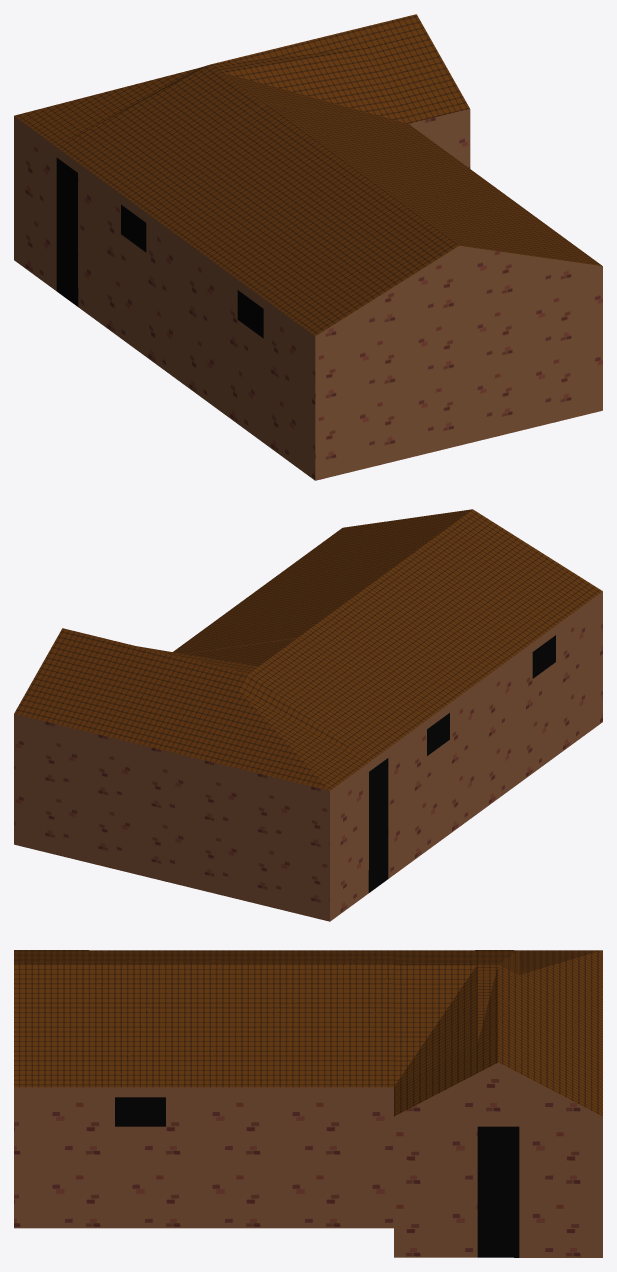
File: safety.obj
The picture shows the model from 3 angles, top to bottom: view 1: azimuth 30°, elevation 25°; view 2: azimuth 150°, elevation 25°; view 3: azimuth 270°, elevation 25°; orthographic projection. The views are drawn at different scales.
Size of the model in its own units: 13.02 by 7.13 by 19.47.
3 materials, 3 textured.
